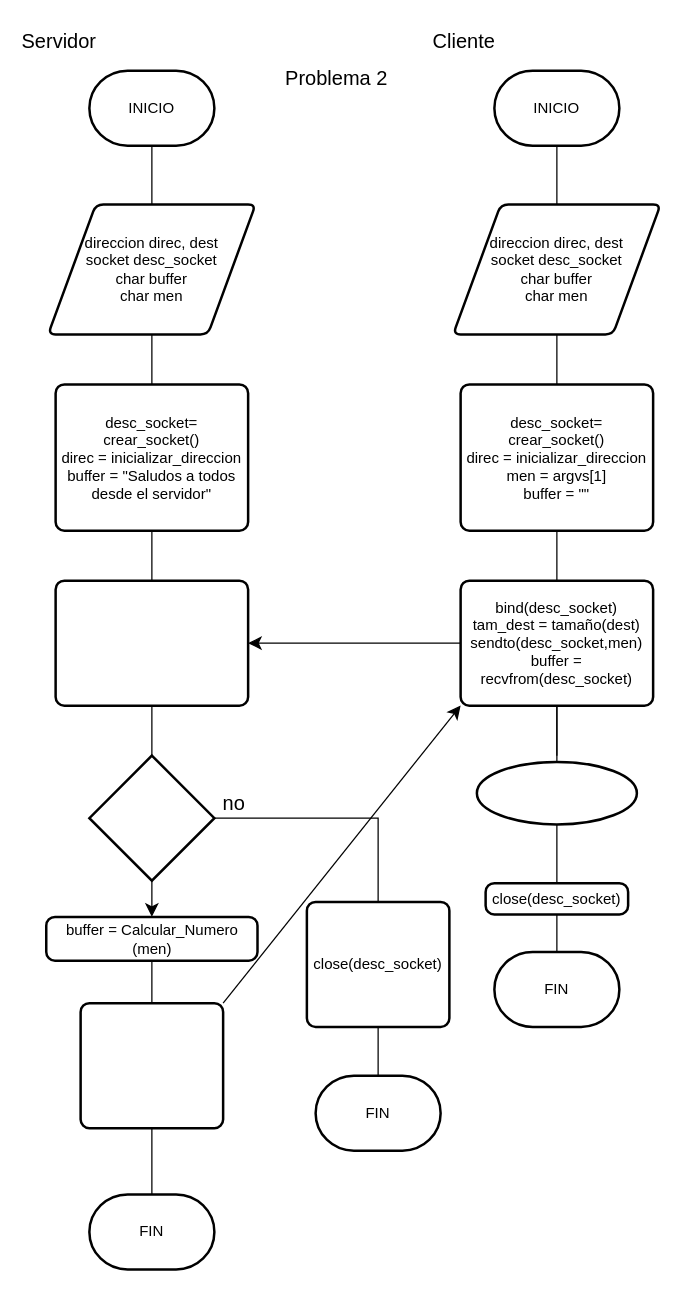
The diagram is 683 pixels wide and 1291 high, and some of its shapes have lost their labels. The shapes that lost their labels are listed below. From the top down, each one's box as (x1, y1, x2, y2) in pixels, then its label:
(54, 579, 249, 706): bind(desc_socket) tam_dest = tamaño(dest) men = recvfrom(desc_socket)
(475, 760, 638, 825): "Numero calculado", buffer
(88, 754, 215, 881): men != NULL?
(79, 1001, 224, 1129): sendto(dest, buffer) close(desc_socket)
